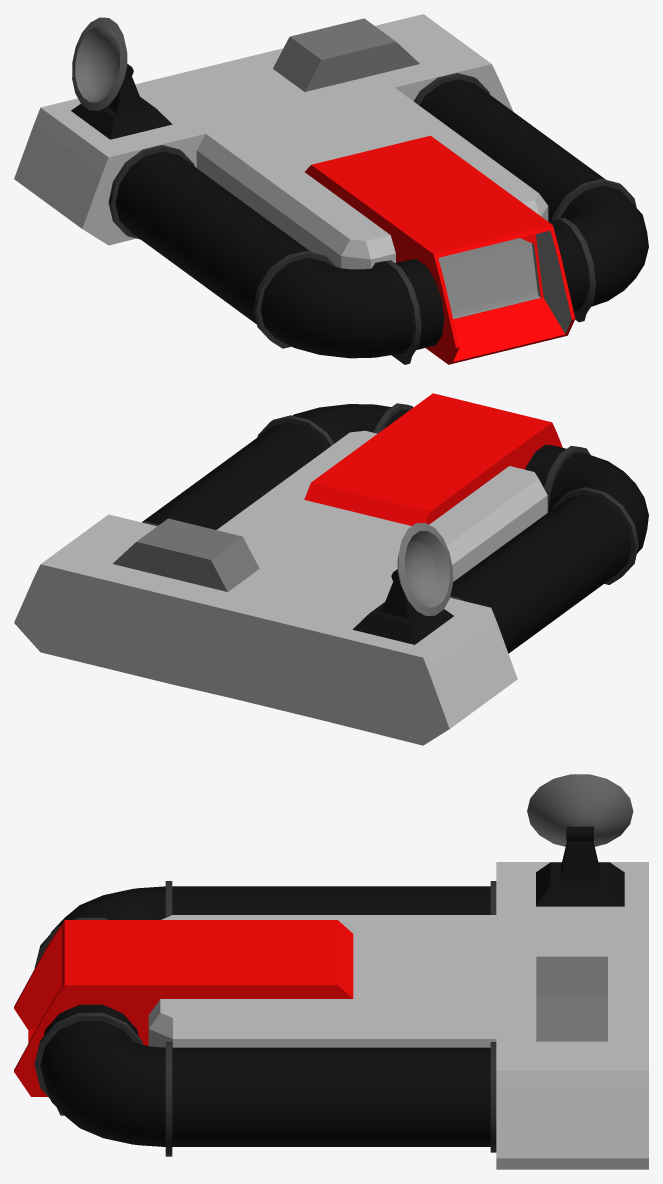
File: Robot_Barracks.FBX
3 views of the same model, one above another, from view 1: azimuth 30°, elevation 25°; view 2: azimuth 150°, elevation 25°; view 3: azimuth 270°, elevation 25° (orthographic). The views are drawn at different scales.
Visible parts, largest first — view 1: Barracks; view 2: Barracks; view 3: Barracks.
Part boxes in pixels (x1,y1,x2,y2): Barracks: (14,14,648,364); Barracks: (14,393,648,745); Barracks: (14,774,648,1169).
Bounding box in the file's own units: 177 × 73.19 × 200.
